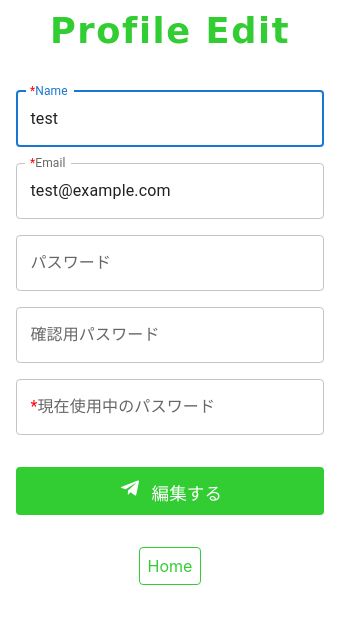
Test: UserEditコンポーネント › Form欄 › Form入力欄 › ゲストユーザ専用エラーメッセージ
The width and height of the screenshot is (341, 624).
// 初期値の入ってない項目に有効な値を入力
Step 1. Type "testPassword" into the password field with test id "passwordArea" → (170, 263), box [16,235,324,291]
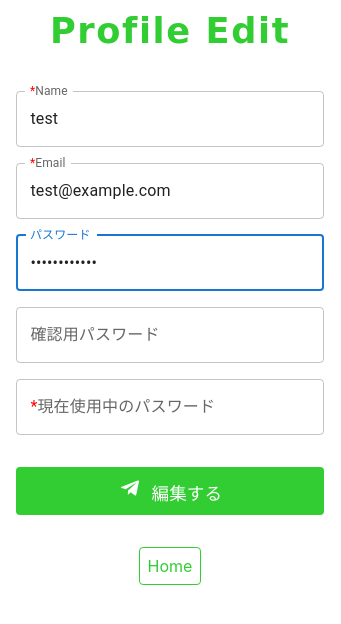
Step 2. Type "testPassword" into the password field with test id "password_confirmationArea" → (170, 335), box [16,307,324,363]
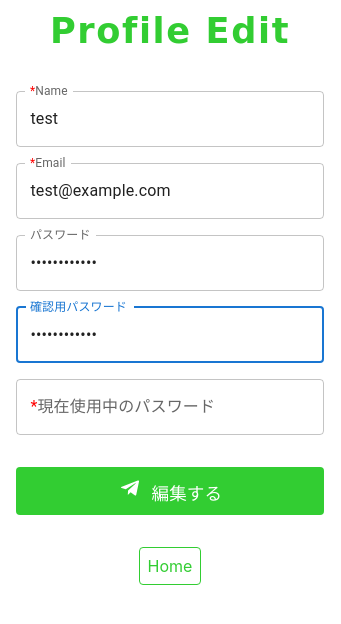
Step 3. Type "testPassword" into the password field with test id "current_passwordArea" → (170, 407), box [16,379,324,435]
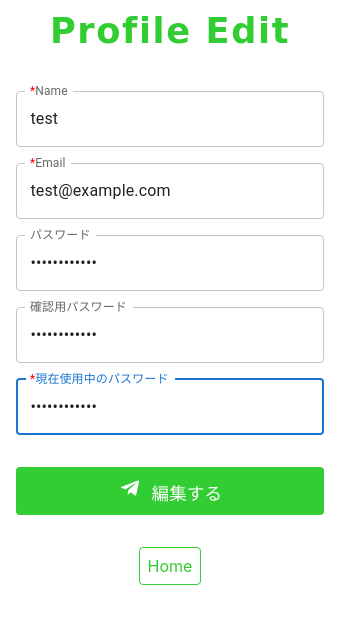
// ユーザが送信ボタンをクリック
Step 4. Click the button with test id "formSubmit" → (170, 491), box [16,467,324,515]
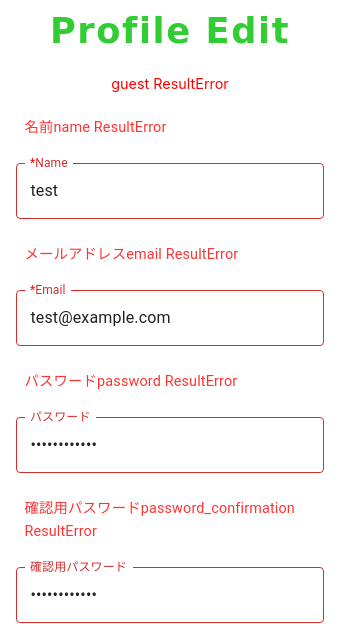
Check: the text "guest ResultError" is shown, box [111,75,229,92]
